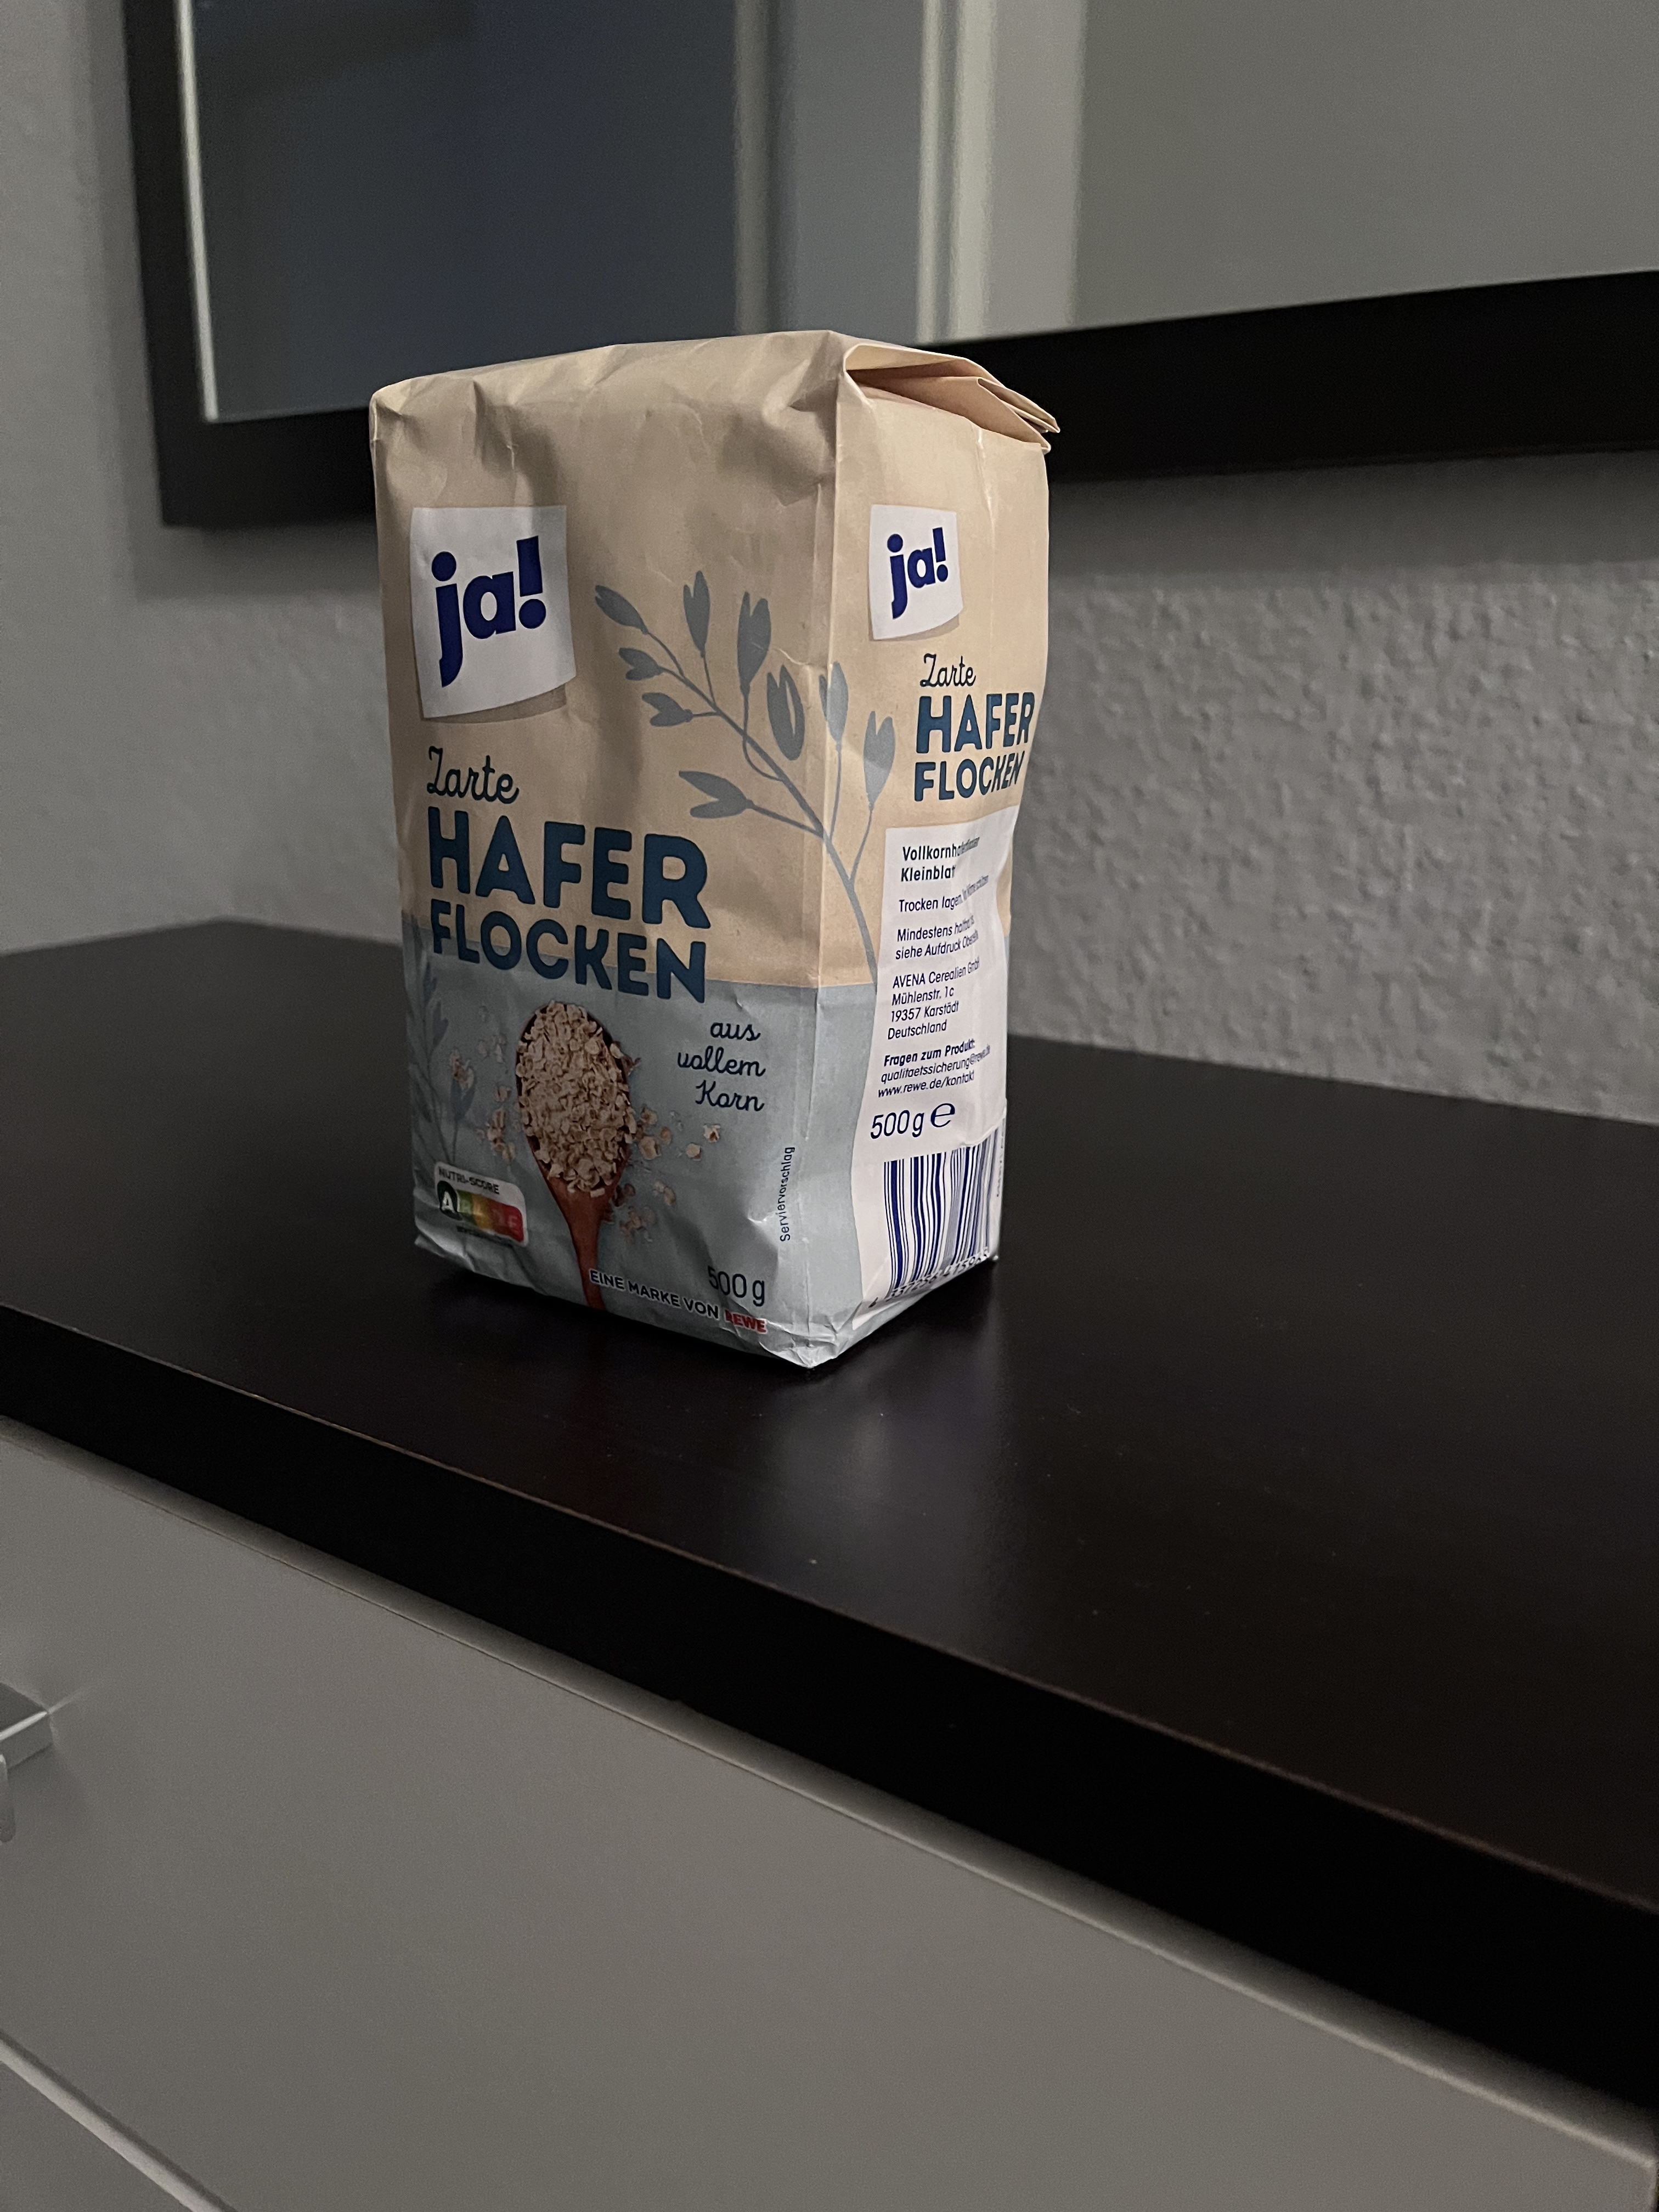haferflocken_ja: (361, 327, 1065, 1372)
